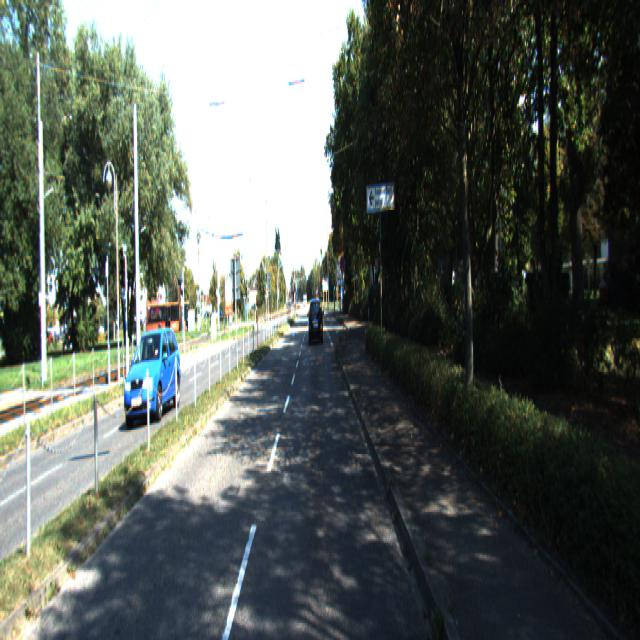Car: (124, 325, 182, 426), (309, 300, 323, 348)
